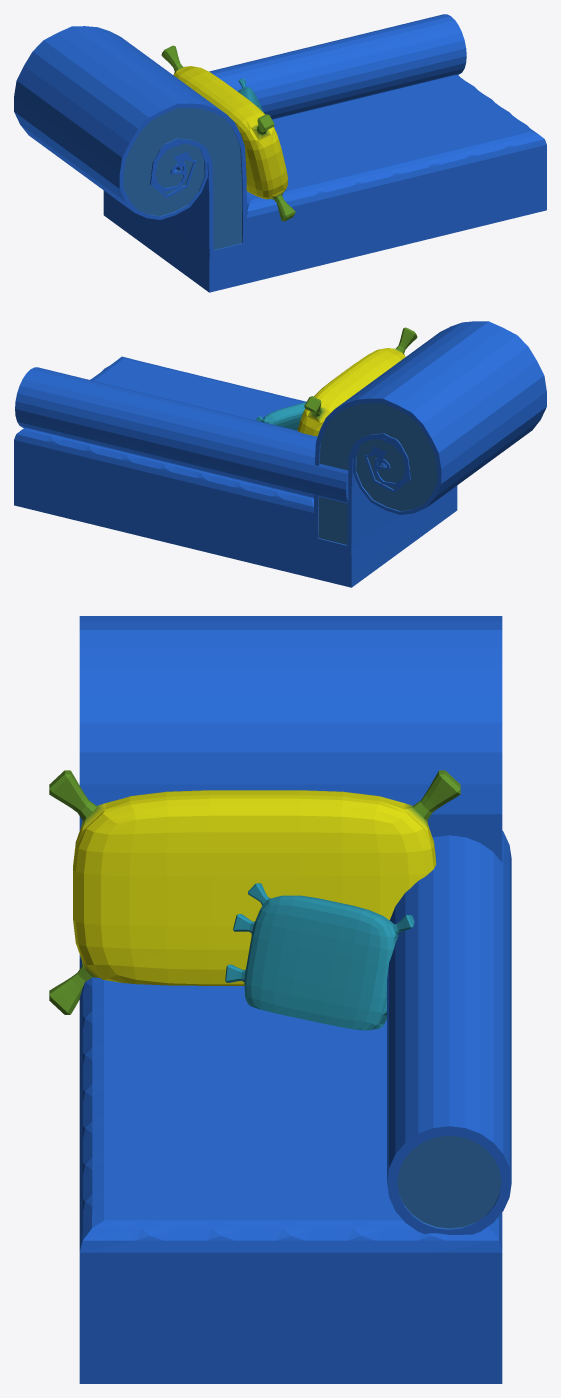
File: sofa-export-to-texture.fbx
The picture shows the model from 3 angles, top to bottom: view 1: azimuth 30°, elevation 25°; view 2: azimuth 150°, elevation 25°; view 3: azimuth 270°, elevation 25°; orthographic projection. The views are drawn at different scales.
Parts seen in each view (by area): view 1: geo1; view 2: geo1; view 3: geo1.
Boxes of the visible parts, x1=… form: geo1: x1=14, y1=14, x2=546, y2=292; geo1: x1=14, y1=321, x2=546, y2=587; geo1: x1=49, y1=616, x2=511, y2=1383.
Bounding box in the file's own units: 6.33 × 2.78 × 2.97.
